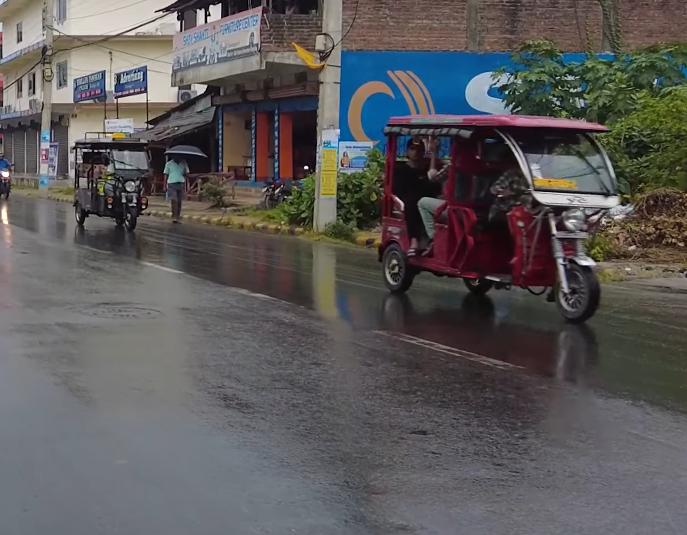e-rickshaw: (378, 108, 618, 326), (70, 133, 161, 230)
